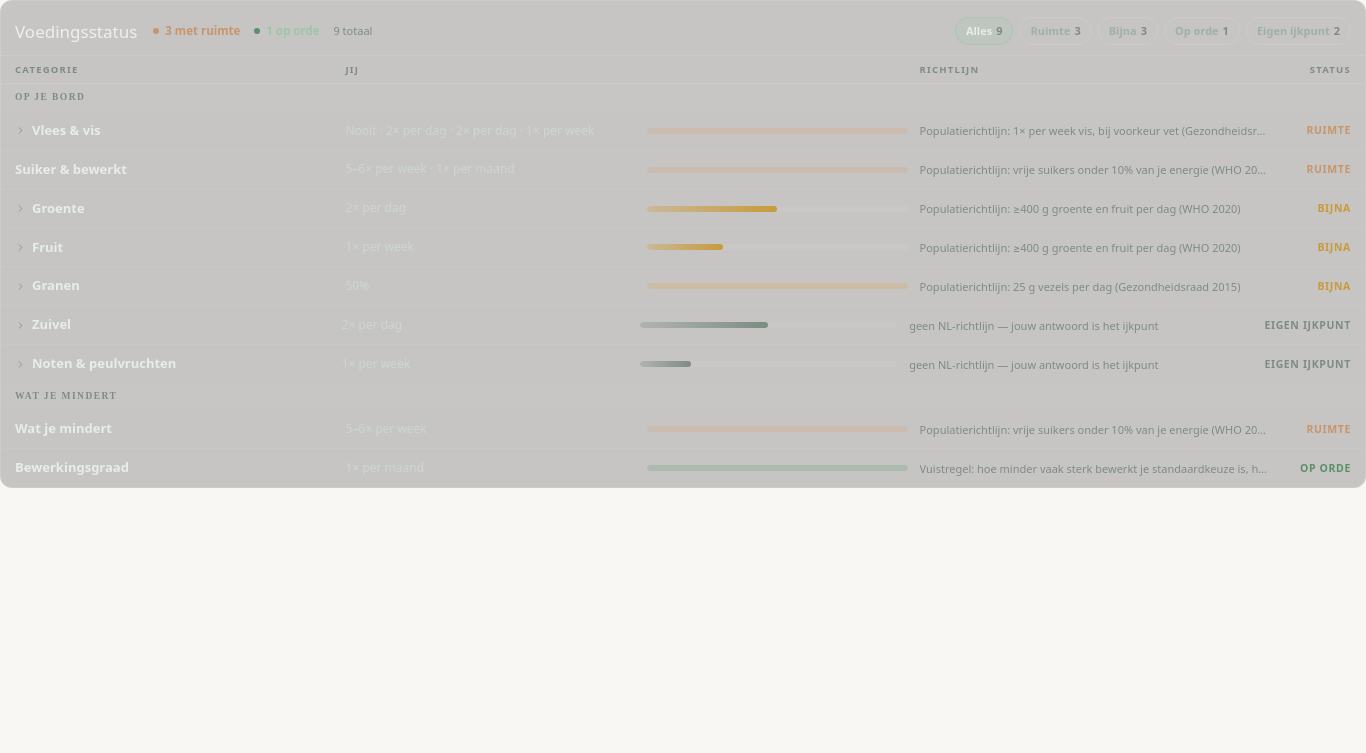
VoedingsstatusTabel › klapt een categorie open en toont de bronnen erachter
Click the button "Noten".
click(683, 364)  # box [1,345,1365,383]
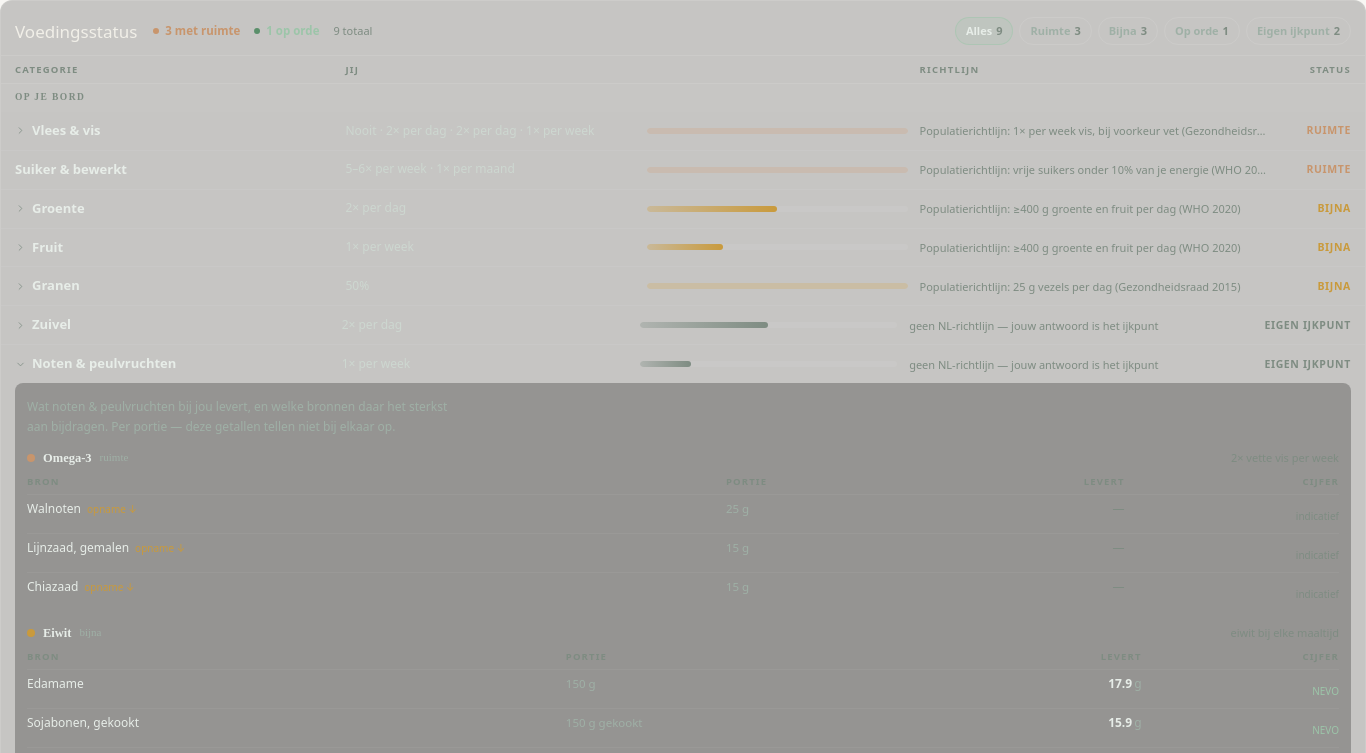
Check: the 1st column heading "Portie" is shown, box [726,474,944,494]
